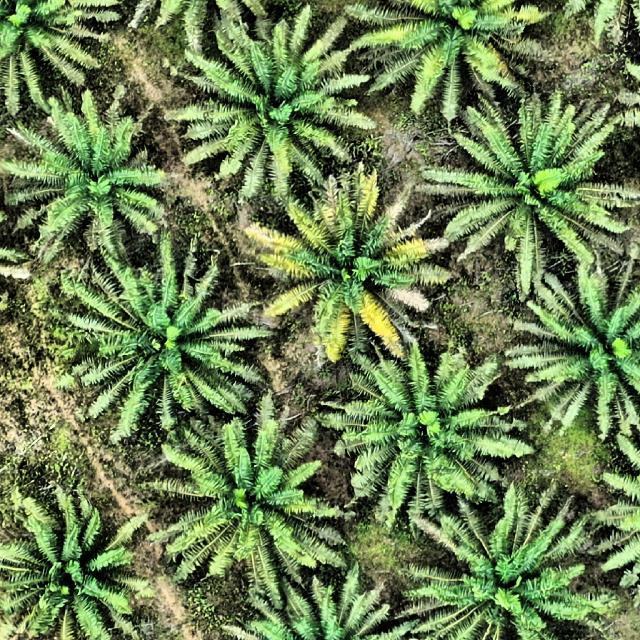Kelapa_Sawit: (162, 412, 360, 590), (454, 98, 632, 283), (332, 352, 524, 512), (255, 190, 442, 342), (178, 38, 360, 188), (86, 272, 260, 428), (412, 498, 594, 640), (4, 115, 166, 258), (4, 487, 145, 640), (510, 267, 640, 431), (356, 0, 546, 112), (1, 0, 130, 122), (239, 559, 402, 640), (594, 442, 640, 602)
